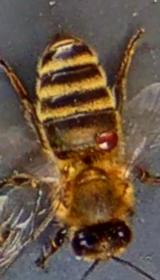varroa_mite: (85, 115, 134, 159)
